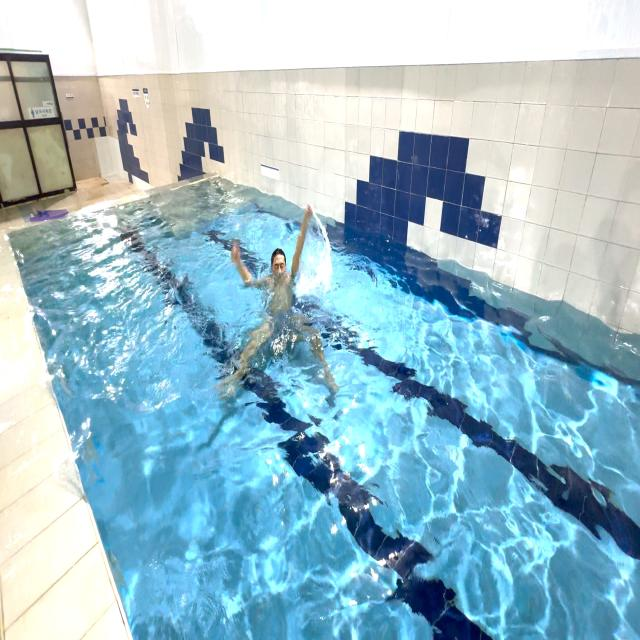Drowning: (212, 183, 341, 415)
